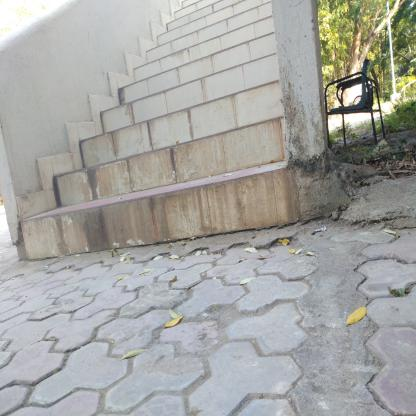stairs: (158, 36, 273, 254)
